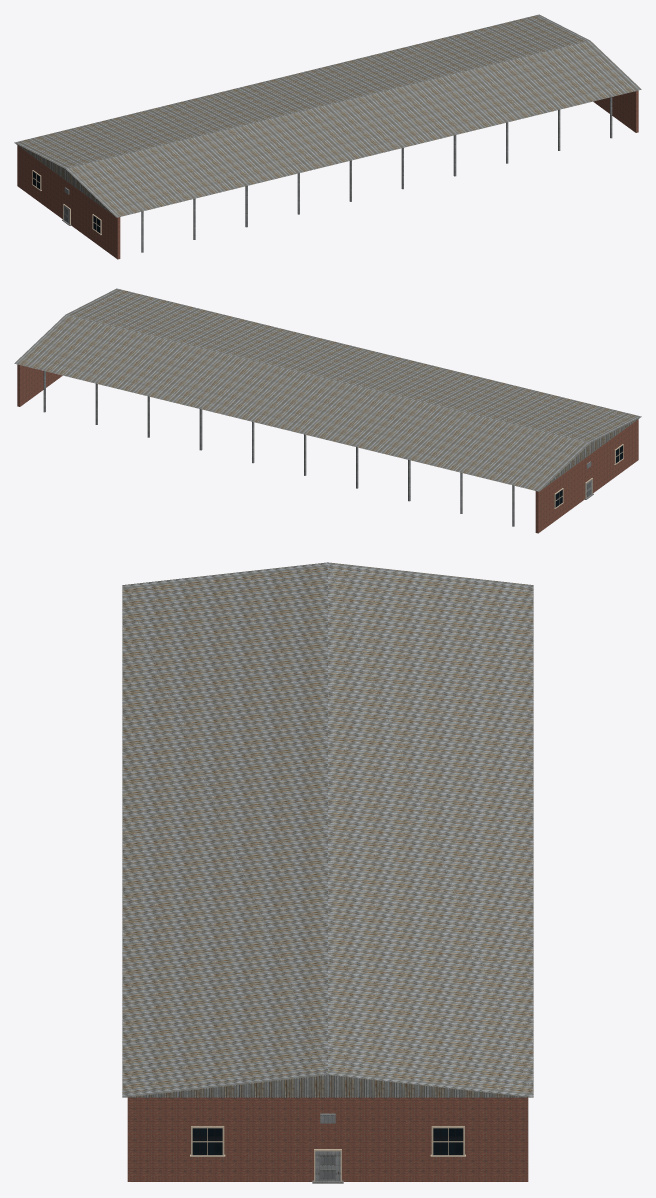
File: market-hall-a_lod0.gltf
The picture shows the model from 3 angles, top to bottom: view 1: azimuth 30°, elevation 25°; view 2: azimuth 150°, elevation 25°; view 3: azimuth 270°, elevation 25°; orthographic projection. The views are drawn at different scales.
Visible parts, largest first — view 1: market-hall-a_roof, market-hall-a_endwalls, market-hall-a_columns; view 2: market-hall-a_roof, market-hall-a_endwalls, market-hall-a_columns; view 3: market-hall-a_roof, market-hall-a_endwalls, market-hall-a_fen_07-glass-curtain-blue_5_t, market-hall-a_fen_04-limestone_0.
Boxes of the visible parts, x1,y1,x2,y2 form: market-hall-a_roof: (14, 14, 641, 217); market-hall-a_endwalls: (17, 90, 638, 259); market-hall-a_columns: (141, 97, 612, 252); market-hall-a_roof: (14, 288, 641, 491); market-hall-a_endwalls: (17, 364, 638, 533); market-hall-a_columns: (43, 371, 514, 526); market-hall-a_roof: (122, 562, 533, 1097); market-hall-a_endwalls: (127, 1097, 528, 1181); market-hall-a_fen_07-glass-curtain-blue_5_t: (192, 1128, 463, 1155); market-hall-a_fen_04-limestone_0: (190, 1126, 465, 1181).
Size of the model in its own units: 121 by 12.02 by 41.
